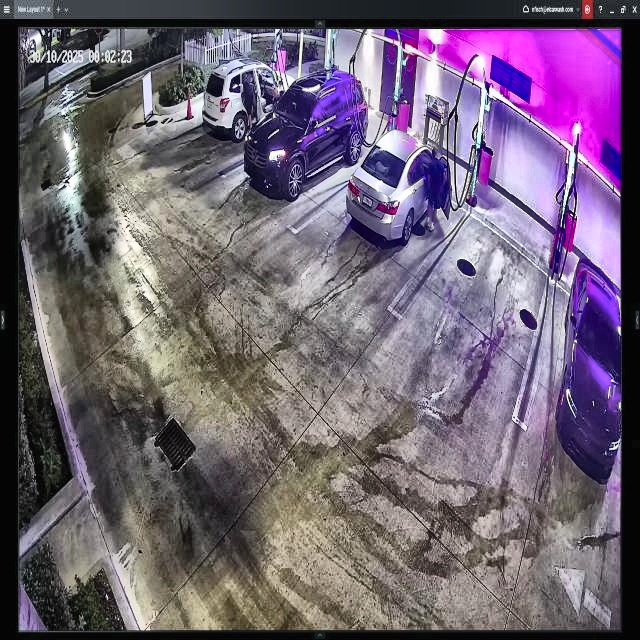Car: (247, 68, 366, 202), (347, 130, 452, 246)
